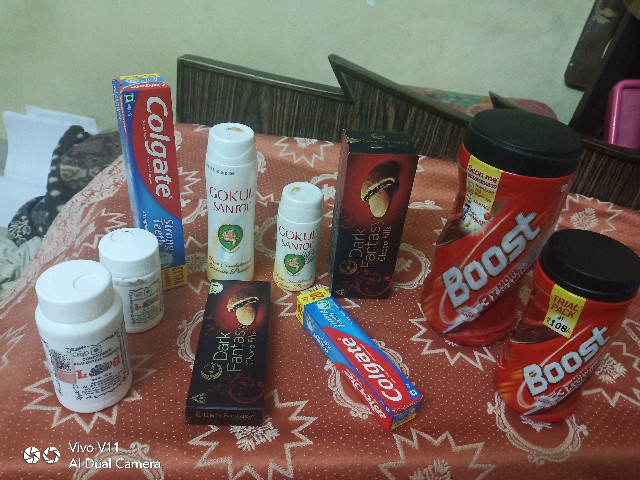boost big: (410, 131, 566, 343)
boost small: (497, 211, 637, 428)
colgatetoothpaste big: (117, 72, 191, 289)
colgatetoothpaste small: (298, 286, 423, 438)
darkfantasy big: (336, 118, 420, 300)
darkfantasy small: (185, 267, 275, 426)
gokulsantol big: (197, 104, 261, 281)
gokulsantol small: (264, 180, 324, 291)
lgasafoetidapowder large: (31, 240, 132, 438)
lgasafoetidapowder small: (102, 227, 167, 332)
